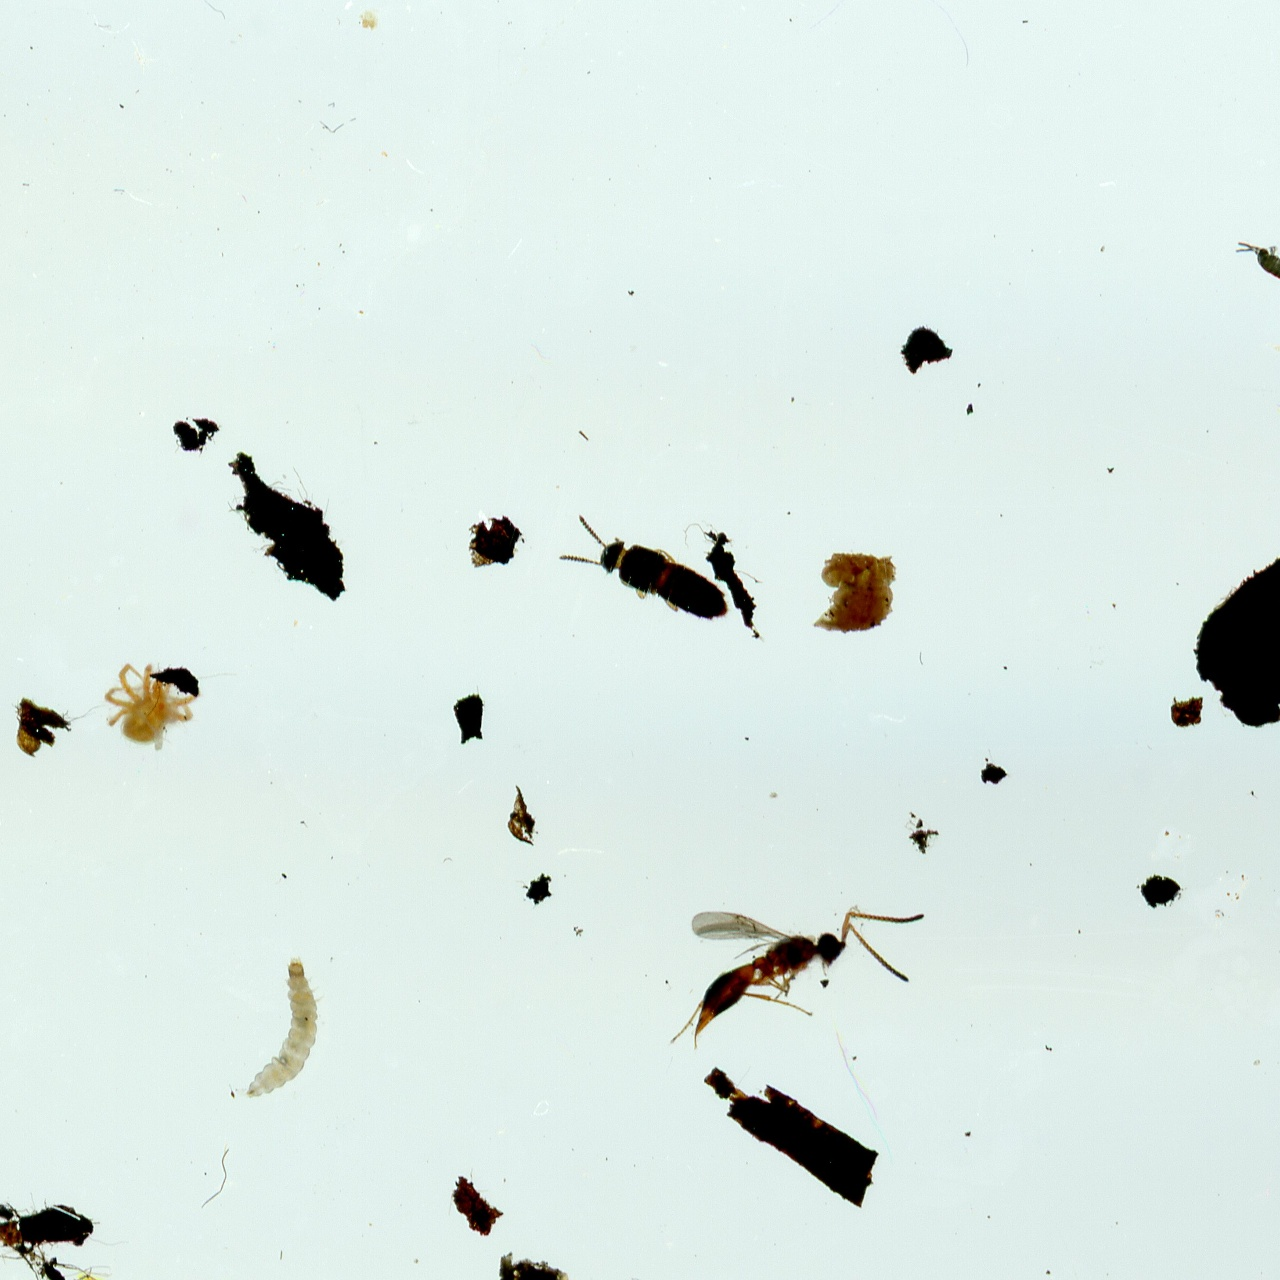arthropod: (633, 847, 950, 1065), (549, 508, 745, 639), (244, 955, 327, 1102), (102, 663, 195, 755), (1230, 229, 1280, 295), (66, 1262, 194, 1280)
